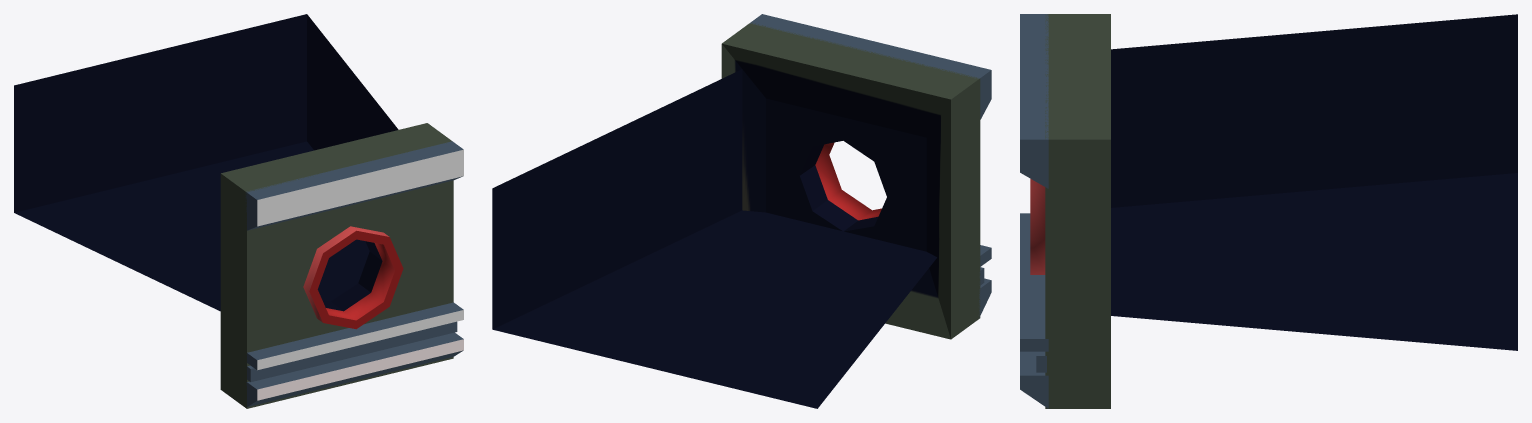
File: Environment_Wall_Spawner_Hole.fbx
3 views of the same model, side by side, from view 1: azimuth 30°, elevation 25°; view 2: azimuth 150°, elevation 25°; view 3: azimuth 270°, elevation 25° (orthographic). The views are drawn at different scales.
Parts seen in each view (by area): view 1: Wall_Spawner_Hole; view 2: Wall_Spawner_Hole; view 3: Wall_Spawner_Hole.
Boxes of the visible parts, x1,y1,x2,y2 form: Wall_Spawner_Hole: [14, 14, 463, 408]; Wall_Spawner_Hole: [492, 14, 991, 408]; Wall_Spawner_Hole: [1020, 14, 1517, 408].
Size of the model in its own units: 567 by 400 by 670.
